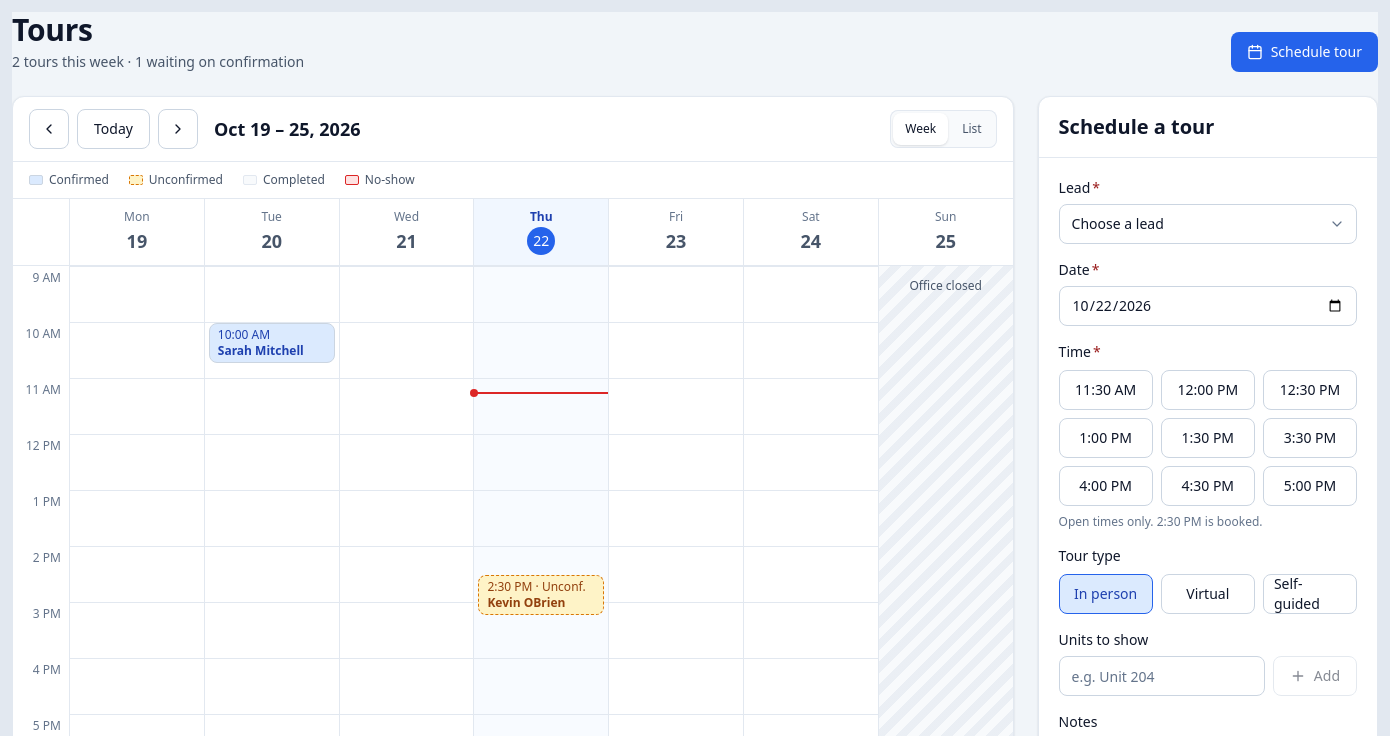
Test case: ToursPage › schedule form › shows a closed message on Sundays
Type "2026-10-25" into the date field labelled "Date*" at [1208, 306], box x1=1059 y1=286 x2=1357 y2=326
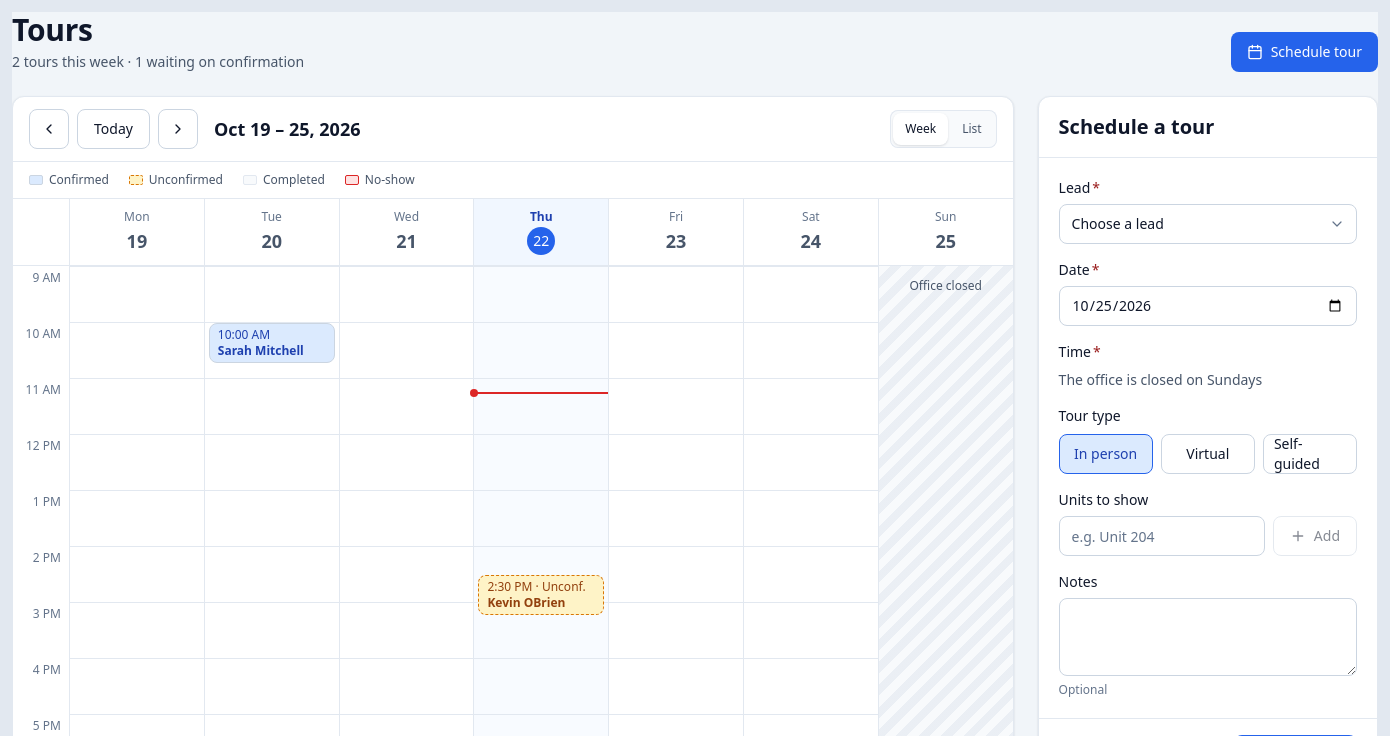
Now the text "The office is closed on Sundays" is shown, box x1=1059 y1=370 x2=1262 y2=389
